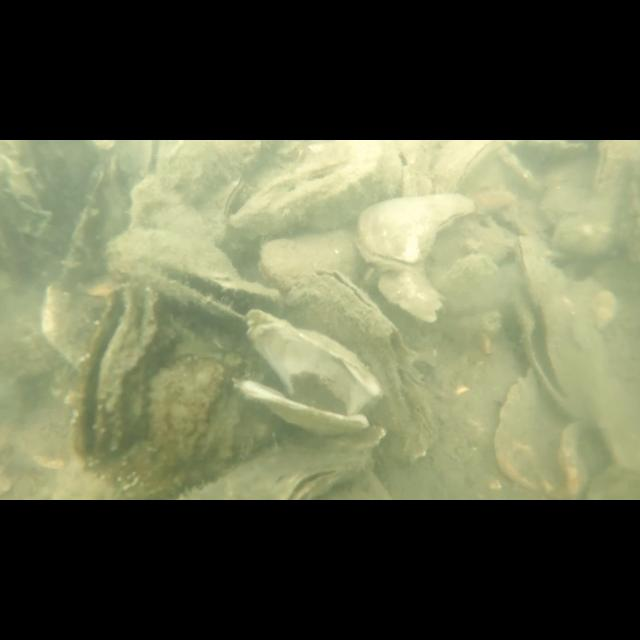Oyster-Closed: (284, 268, 438, 466), (232, 142, 378, 232), (492, 366, 574, 492), (352, 190, 473, 272), (148, 354, 226, 468), (258, 227, 358, 291), (432, 140, 508, 192), (375, 264, 443, 322), (218, 176, 245, 218)
Oyster-Open: (231, 310, 383, 434), (68, 284, 162, 472), (505, 236, 599, 422), (104, 228, 282, 326), (274, 460, 354, 500)
